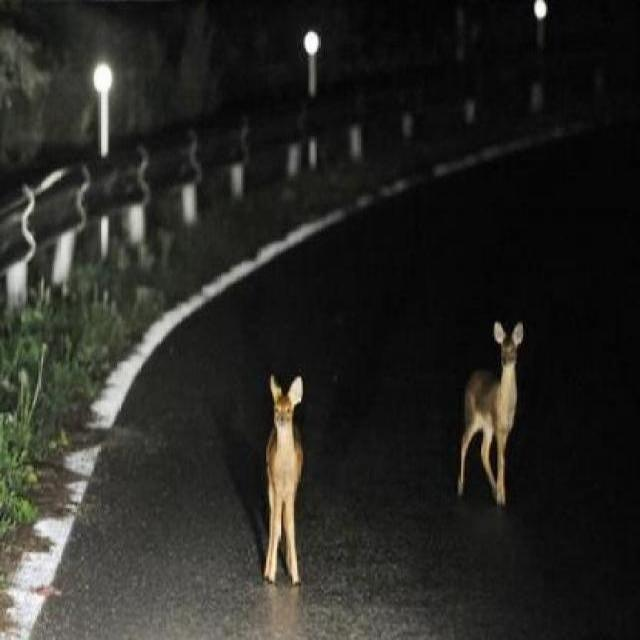deer: (248, 348, 316, 599), (458, 316, 527, 512)
